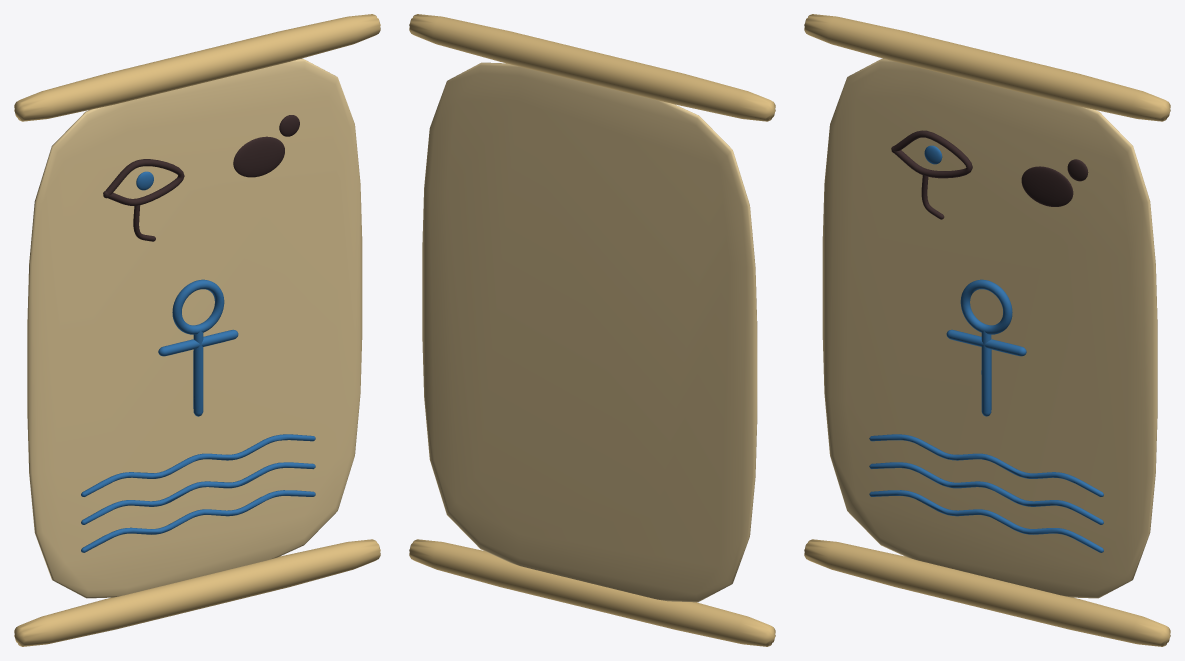
Rendered from deco_papiro.glb.
3 views of the same model, side by side, from view 1: azimuth 30°, elevation 25°; view 2: azimuth 150°, elevation 25°; view 3: azimuth 330°, elevation 25° (orthographic).
Parts seen in each view (by area): view 1: hoja papiro.001, rollo 1.001, rollo -1.001, ave.001, agua 0.001, agua 1.001, agua 2.001, ankh ojo.001, ojo horus.001, ankh palo.001, ankh brazos.001; view 2: hoja papiro.001, rollo 1.001, rollo -1.001; view 3: hoja papiro.001, rollo 1.001, rollo -1.001, ave.001, agua 0.001, agua 1.001, agua 2.001, ankh ojo.001, ojo horus.001, ankh palo.001, ankh brazos.001.
Part boxes in pixels (x1,y1,x2,y2): hoja papiro.001: (27, 58, 362, 598); rollo 1.001: (14, 14, 380, 121); rollo -1.001: (14, 539, 380, 646); ave.001: (233, 136, 284, 177); agua 0.001: (81, 434, 315, 496); agua 1.001: (81, 462, 315, 524); agua 2.001: (81, 490, 315, 552); ankh ojo.001: (172, 279, 224, 334); ojo horus.001: (103, 159, 184, 205); ankh palo.001: (193, 331, 203, 416); ankh brazos.001: (158, 329, 238, 356); hoja papiro.001: (422, 62, 757, 602); rollo 1.001: (409, 14, 775, 121); rollo -1.001: (409, 539, 775, 646); hoja papiro.001: (822, 58, 1157, 598); rollo 1.001: (804, 14, 1170, 121); rollo -1.001: (804, 539, 1170, 646); ave.001: (1021, 166, 1073, 206); agua 0.001: (869, 434, 1103, 496); agua 1.001: (869, 462, 1103, 524); agua 2.001: (869, 490, 1103, 552); ankh ojo.001: (960, 279, 1012, 334); ojo horus.001: (891, 130, 972, 178); ankh palo.001: (981, 331, 991, 416); ankh brazos.001: (946, 329, 1026, 356).
Bounding box in the file's own units: 0.48 × 0.6969 × 0.0369.
